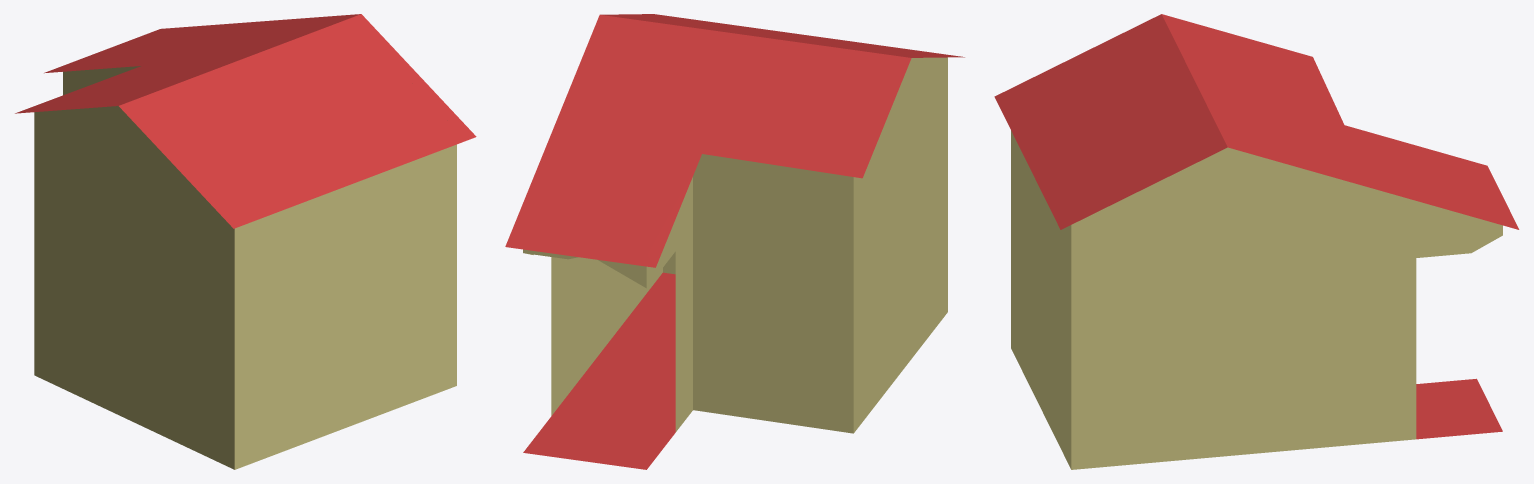
3 views of the same model, side by side, from view 1: azimuth 30°, elevation 25°; view 2: azimuth 150°, elevation 25°; view 3: azimuth 270°, elevation 25° (orthographic).
Bounding box in the file's own units: 13.79 × 18.92 × 12.51.
